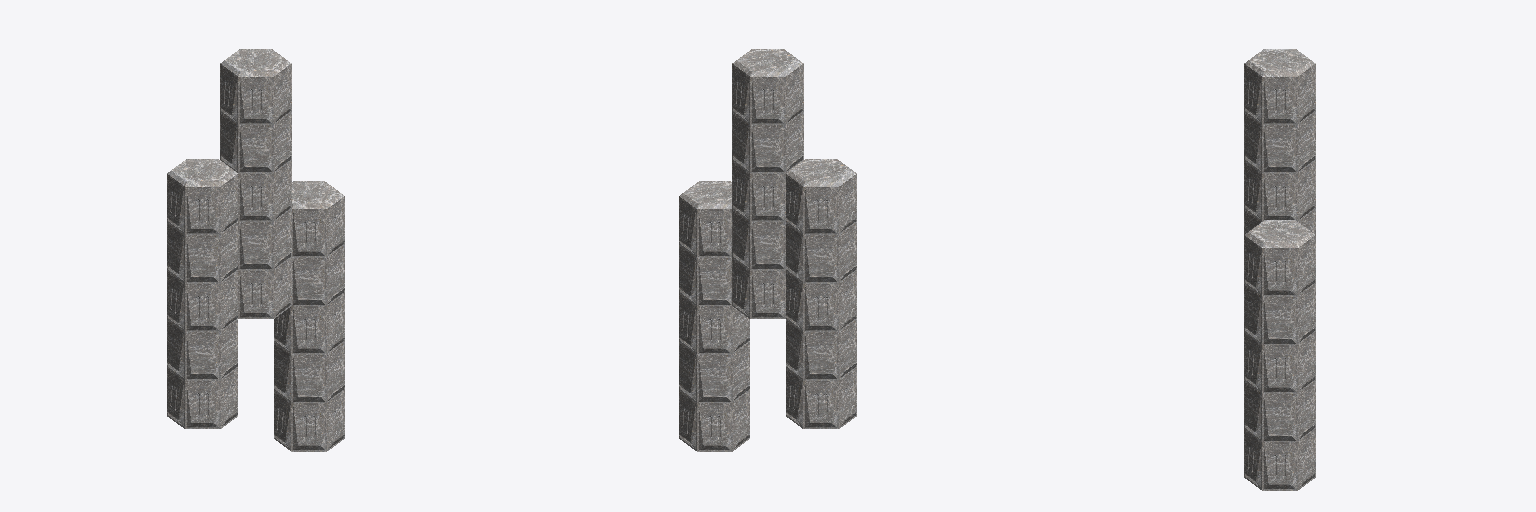
The picture shows the model from 3 angles: view 1: azimuth 30°, elevation 25°; view 2: azimuth 150°, elevation 25°; view 3: azimuth 270°, elevation 25°; orthographic projection.
Visible parts, largest first — view 1: Side_Cylinder, Cylinder0_Cylinder.001, Hexagon_Circle; view 2: Side_Cylinder, Cylinder0_Cylinder.001, Hexagon_Circle; view 3: Side_Cylinder, Cylinder0_Cylinder.001, Hexagon_Circle.
Part boxes in pixels (bbox=[...]): Side_Cylinder: bbox=[167, 64, 344, 451]; Cylinder0_Cylinder.001: bbox=[167, 112, 344, 402]; Hexagon_Circle: bbox=[167, 49, 343, 208]; Side_Cylinder: bbox=[679, 64, 856, 451]; Cylinder0_Cylinder.001: bbox=[679, 112, 856, 402]; Hexagon_Circle: bbox=[680, 49, 856, 208]; Side_Cylinder: bbox=[1244, 64, 1315, 490]; Cylinder0_Cylinder.001: bbox=[1244, 112, 1315, 441]; Hexagon_Circle: bbox=[1244, 49, 1315, 247].
Bounding box in the file's own units: 10.76 × 24.2 × 4.
Materials: 1 (1 with a texture image).